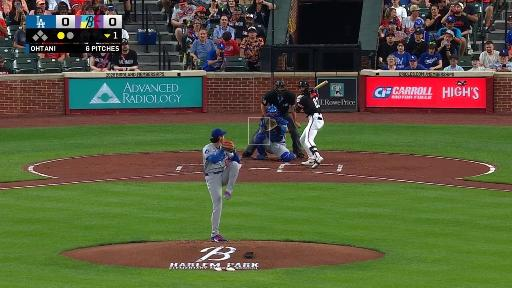pitcher: (203, 128, 241, 243)
